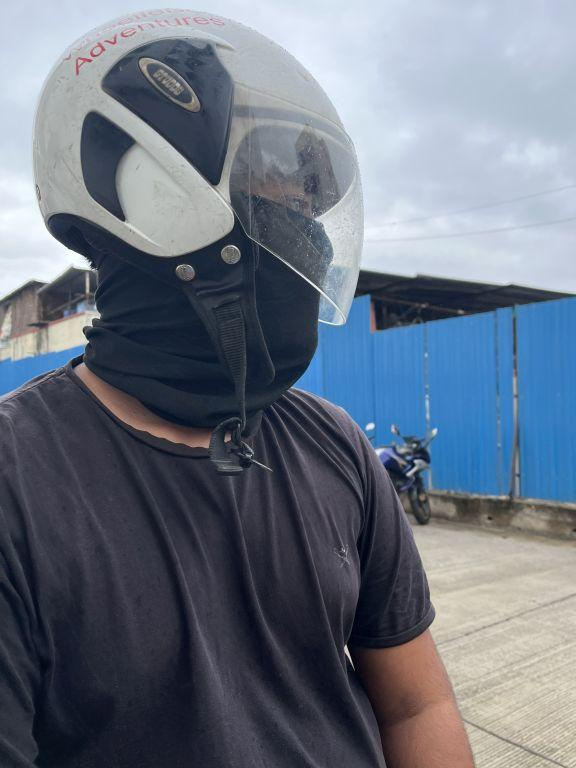helmet: (12, 9, 380, 368)
